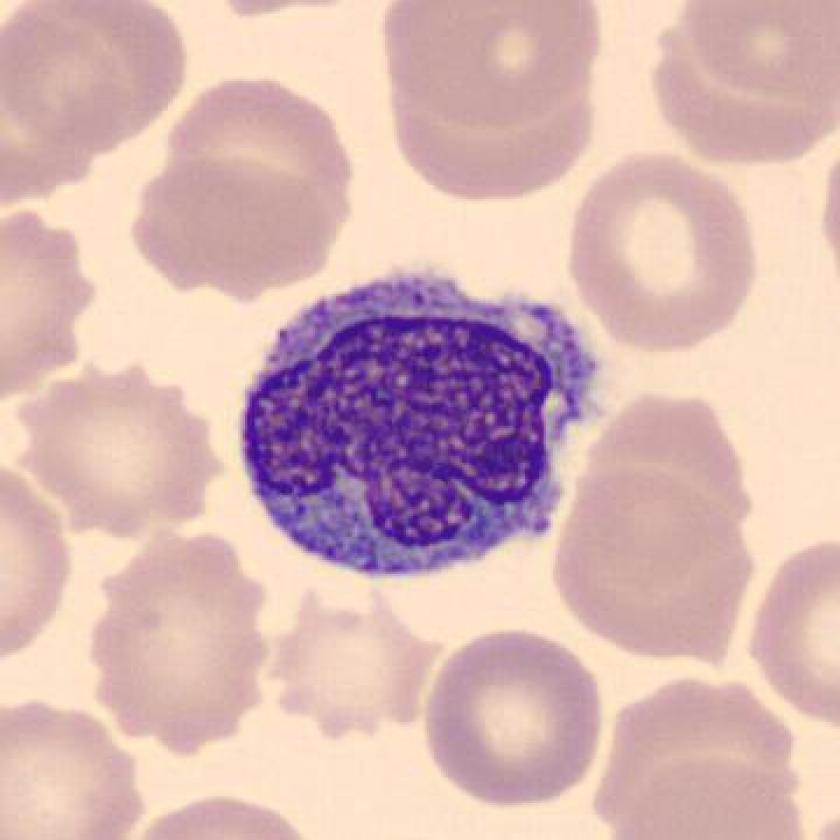monocyte: (223, 242, 622, 596)
